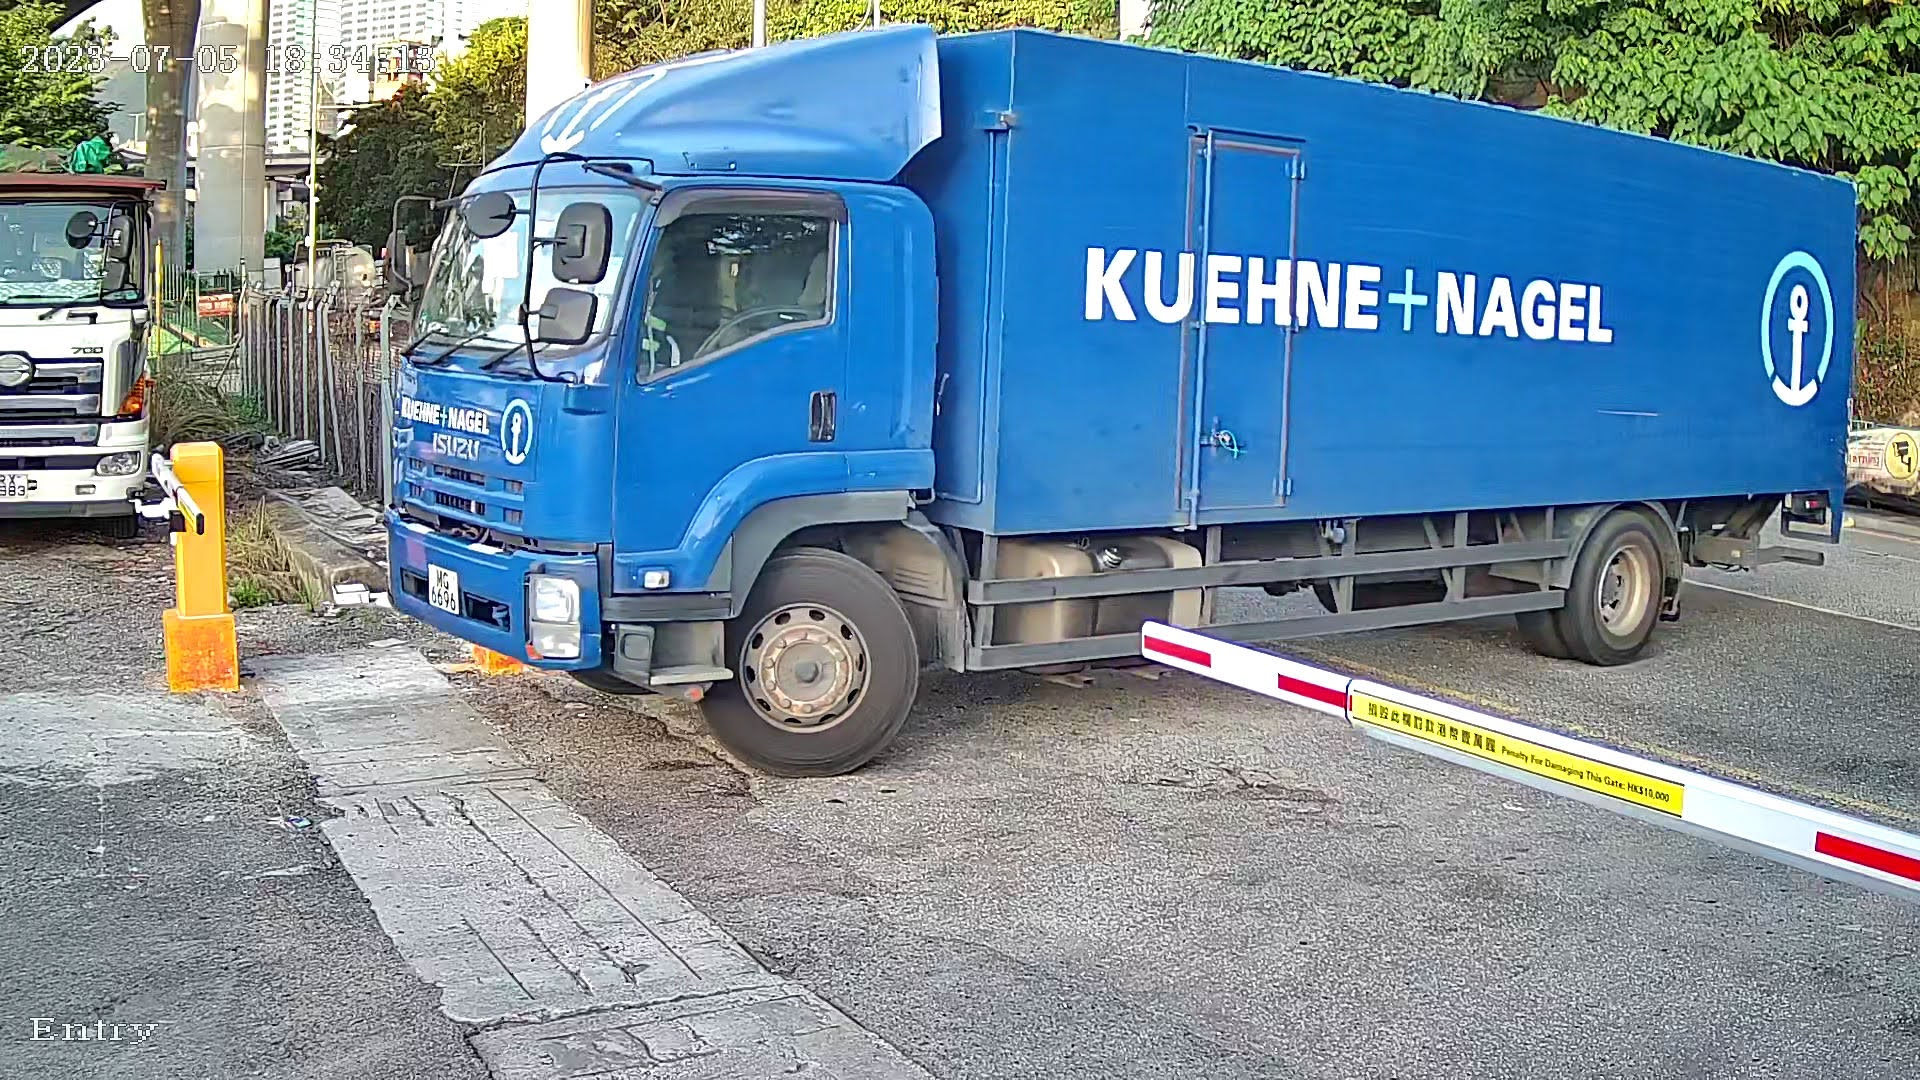truck_large: (323, 3, 1896, 764)
